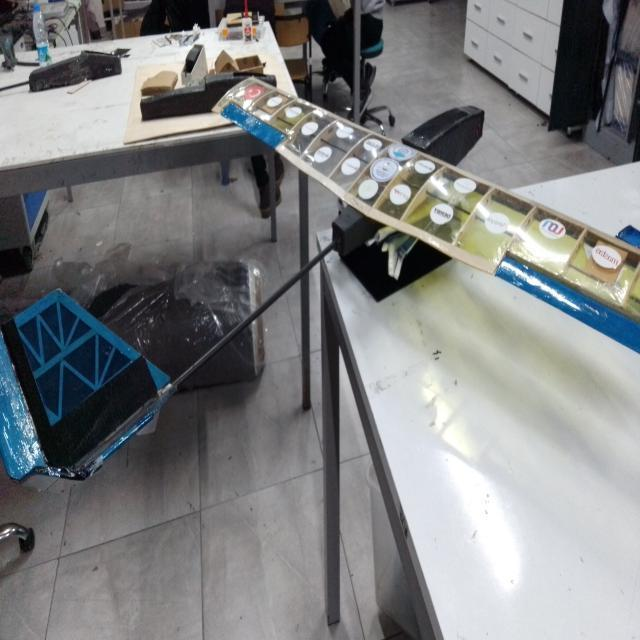UAV: (29, 81, 550, 534)
